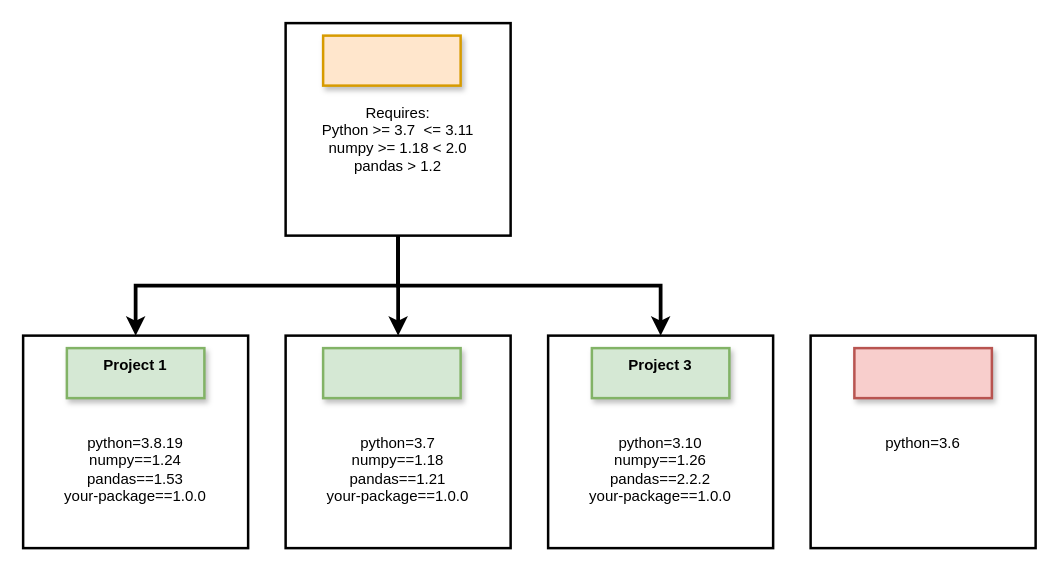
This 1058x570 diagram has some shape labels left out. The centre of each missing label's shape, as x and y in pixels:
"Incompatible project" belongs at point 924,374.
"Project 2" belongs at point 392,374.
"your-package v1.0.0" belongs at point 392,62.
